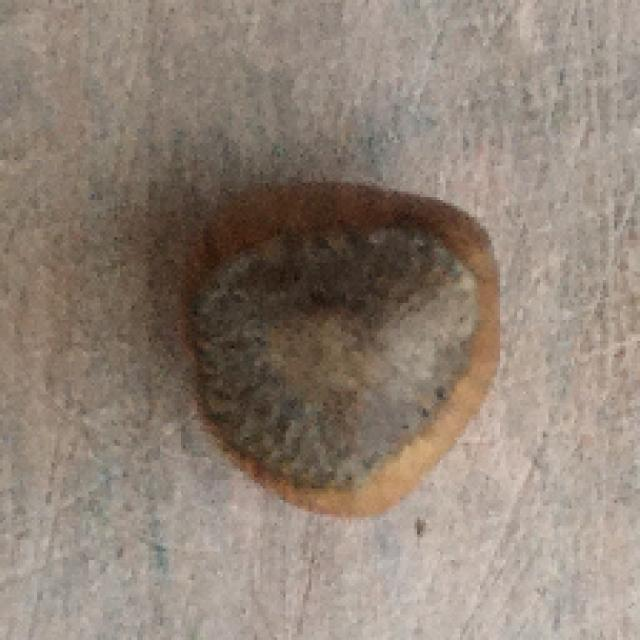qualityHazelnut: (191, 167, 502, 517)
